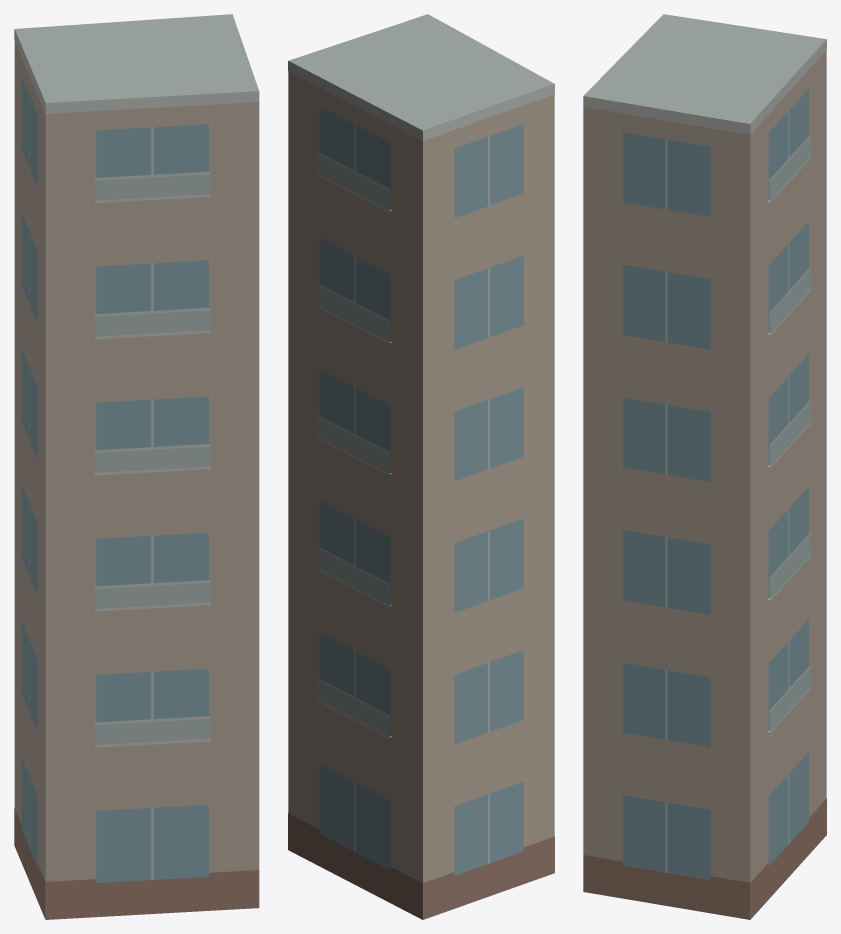
Rendered from survey-upis-33020137.glb.
The picture shows the model from 3 angles, left to right: view 1: azimuth 30°, elevation 25°; view 2: azimuth 150°, elevation 25°; view 3: azimuth 270°, elevation 25°; orthographic projection. The views are drawn at different scales.
Visible parts, largest first — view 1: survey-upis-33020137.tmp; view 2: survey-upis-33020137.tmp; view 3: survey-upis-33020137.tmp.
Boxes of the visible parts, x1,y1,x2,y2 form: survey-upis-33020137.tmp: [14, 14, 259, 919]; survey-upis-33020137.tmp: [288, 14, 554, 919]; survey-upis-33020137.tmp: [583, 14, 826, 919].
Size of the model in its own units: 5.43 by 18.3 by 5.08.
